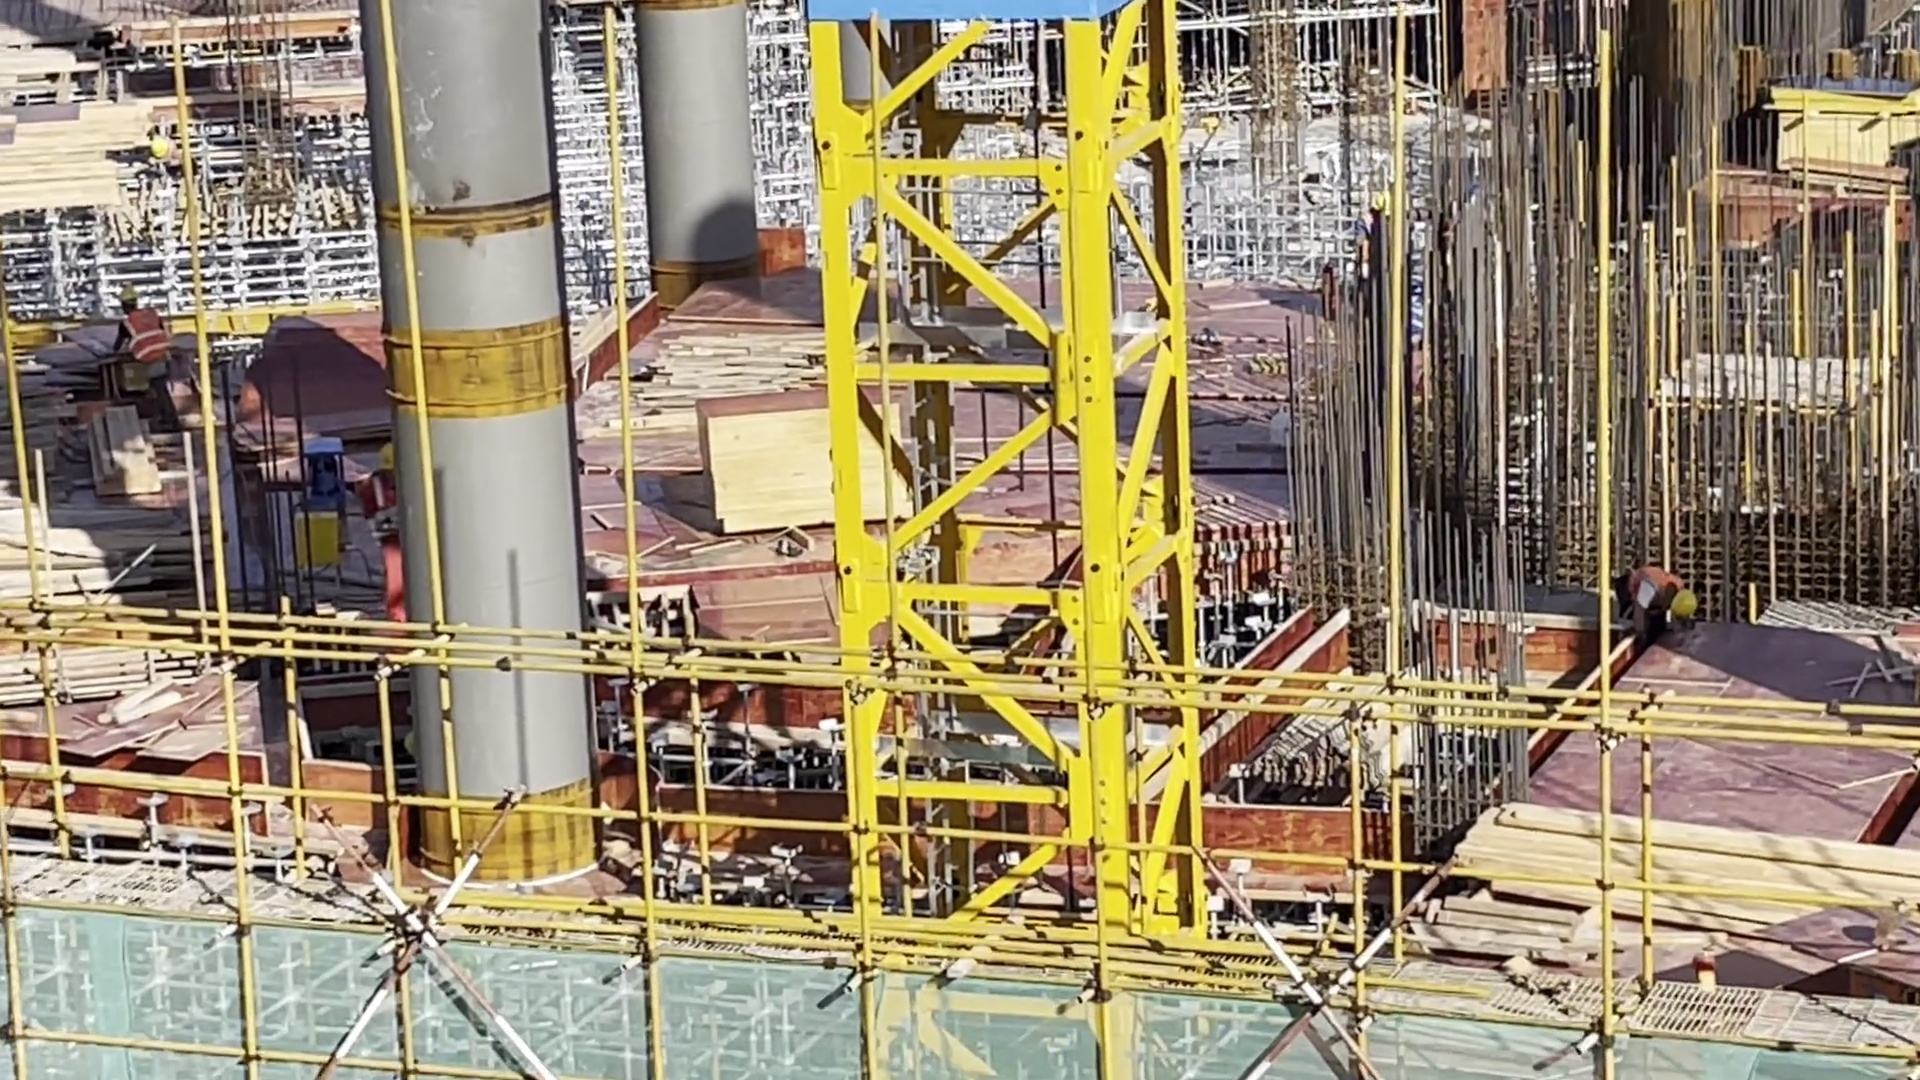board: (700, 391, 916, 531), (1775, 63, 1912, 191)
helmet: (1674, 583, 1699, 629), (373, 440, 403, 475), (119, 282, 141, 315), (148, 133, 169, 161)
person: (358, 437, 427, 634), (111, 287, 193, 434), (1615, 558, 1705, 651), (141, 129, 200, 193)
vest: (1621, 565, 1684, 630), (120, 305, 170, 370), (357, 477, 409, 537)
wood: (1459, 801, 1920, 946), (1, 488, 211, 595), (95, 394, 154, 499)
